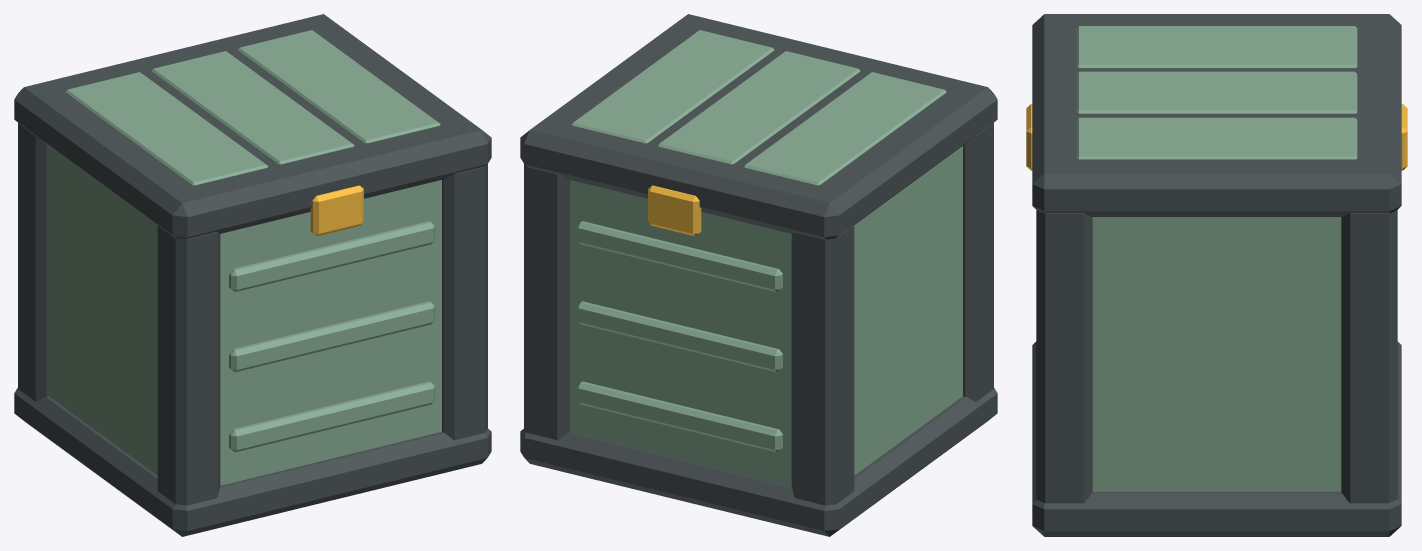
Rendered from supply_crate.glb.
3 views of the same model, side by side, from view 1: azimuth 30°, elevation 25°; view 2: azimuth 150°, elevation 25°; view 3: azimuth 270°, elevation 25° (orthographic). The views are drawn at different scales.
Visible parts, largest first — view 1: supply_crate.shell, supply_crate.rim1, supply_crate.rim0, supply_crate.post00, supply_crate.post10, supply_crate.lid1, supply_crate.lid2, supply_crate.lid0, supply_crate.post01, supply_crate.rib00, supply_crate.rib02, supply_crate.rib01 (+1 smaller); view 2: supply_crate.shell, supply_crate.rim1, supply_crate.rim0, supply_crate.post01, supply_crate.post11, supply_crate.lid1, supply_crate.lid2, supply_crate.lid0, supply_crate.post00, supply_crate.rib10, supply_crate.rib12, supply_crate.rib11 (+1 smaller); view 3: supply_crate.shell, supply_crate.rim1, supply_crate.rim0, supply_crate.post10, supply_crate.post11, supply_crate.lid0, supply_crate.lid1, supply_crate.lid2.
Boxes of the visible parts, <box> form: supply_crate.shell: <box>49,146,441,485</box>; supply_crate.rim1: <box>14,14,491,239</box>; supply_crate.rim0: <box>14,388,491,536</box>; supply_crate.post00: <box>157,225,220,505</box>; supply_crate.post10: <box>442,164,487,440</box>; supply_crate.lid1: <box>151,51,354,164</box>; supply_crate.lid2: <box>237,30,440,143</box>; supply_crate.lid0: <box>65,72,268,185</box>; supply_crate.post01: <box>18,123,48,401</box>; supply_crate.rib00: <box>229,381,435,452</box>; supply_crate.rib02: <box>229,221,435,291</box>; supply_crate.rib01: <box>229,301,435,372</box>; supply_crate.shell: <box>570,146,962,485</box>; supply_crate.rim1: <box>520,14,997,239</box>; supply_crate.rim0: <box>520,388,997,536</box>; supply_crate.post01: <box>791,225,854,505</box>; supply_crate.post11: <box>524,164,569,440</box>; supply_crate.lid1: <box>657,51,860,164</box>; supply_crate.lid2: <box>571,30,774,143</box>; supply_crate.lid0: <box>743,72,946,185</box>; supply_crate.post00: <box>963,123,993,401</box>; supply_crate.rib10: <box>576,381,782,452</box>; supply_crate.rib12: <box>576,221,782,291</box>; supply_crate.rib11: <box>576,301,782,372</box>; supply_crate.shell: <box>1092,217,1341,491</box>; supply_crate.rim1: <box>1032,14,1401,216</box>; supply_crate.rim0: <box>1032,342,1401,536</box>; supply_crate.post10: <box>1036,210,1092,503</box>; supply_crate.post11: <box>1341,210,1397,503</box>; supply_crate.lid0: <box>1076,26,1357,68</box>; supply_crate.lid1: <box>1076,71,1357,113</box>; supply_crate.lid2: <box>1076,117,1357,159</box>.
Size of the model in its own units: 1.1 by 1.11 by 1.05.
